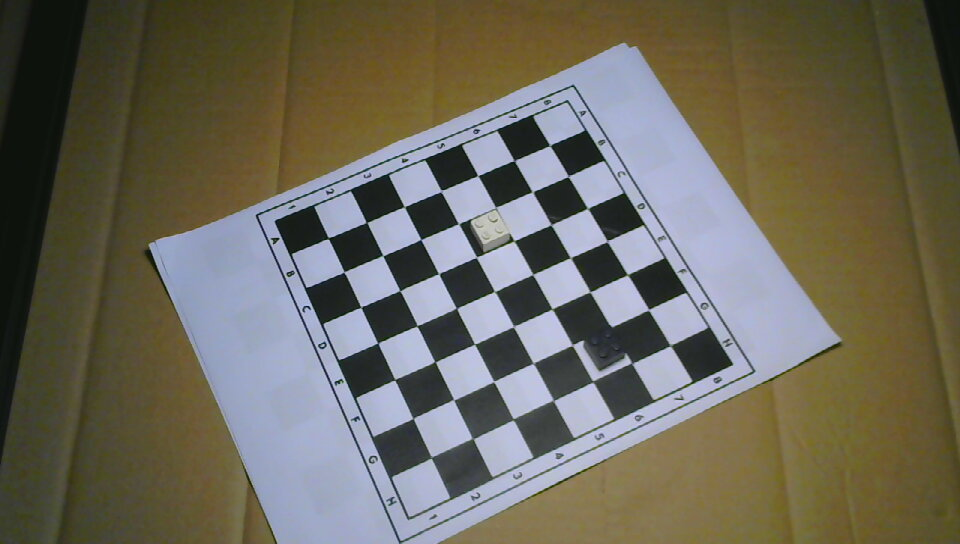bp: (583, 328, 626, 371)
wp: (470, 210, 510, 252)
